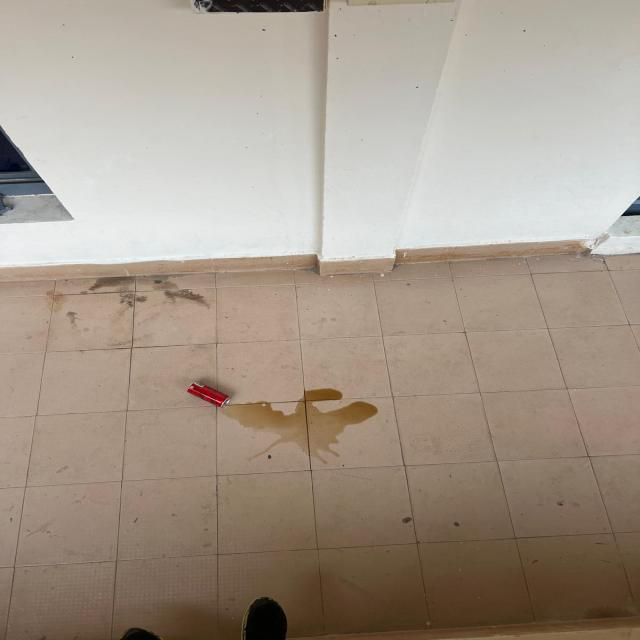cup: (184, 380, 227, 410)
spill: (224, 398, 376, 439)
